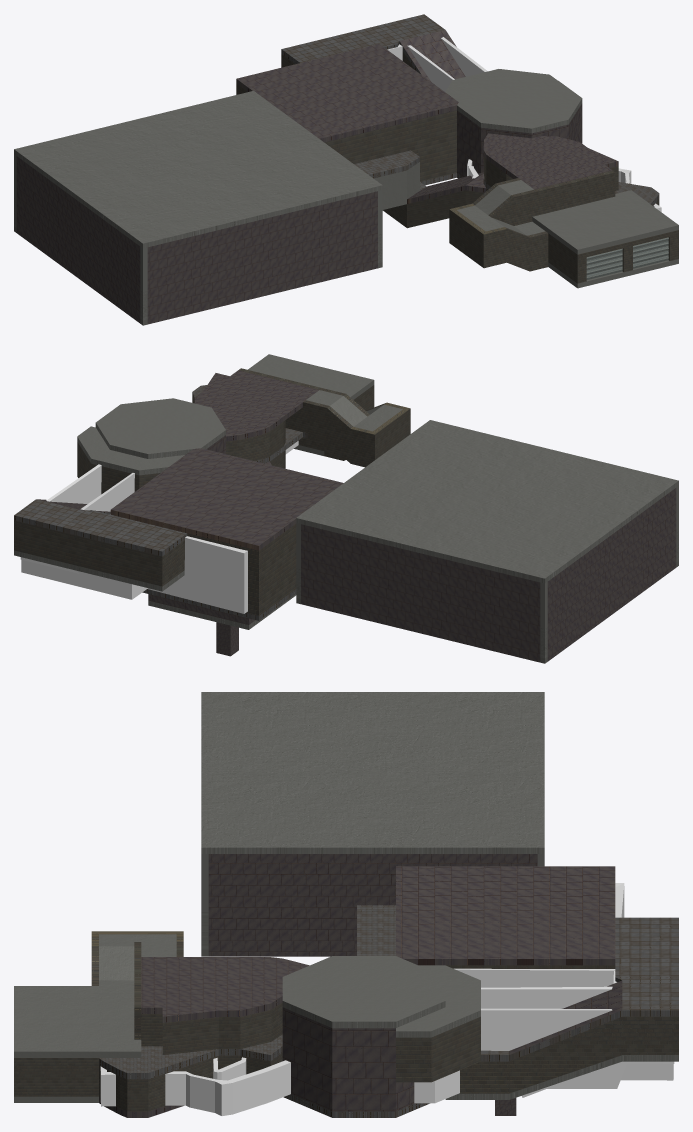
The model's file is map.glb.
3 renders of one model, top to bottom at view 1: azimuth 30°, elevation 25°; view 2: azimuth 150°, elevation 25°; view 3: azimuth 270°, elevation 25°, orthographic. The views are drawn at different scales.
Visible parts, largest first — view 1: _ Exit Celing, Exit Walls, _Square Celing, Stairs Walls, _Hexagon Celing, _Garage Celing, _Connector Celing Upstairs, Square Walls, _Hallway Celing, Hexagon Walls, Garage Walls, Old Map (+10 smaller); view 2: _ Exit Celing, Exit Walls, _Square Celing, Old Map, _Hexagon Celing, Hallway Walls, _Connector Celing Upstairs, Stairs Walls, _Hallway Celing, Square Walls, _Garage Celing, _Balcony Celing (+10 smaller); view 3: _ Exit Celing, _Square Celing, Exit Walls, Old Map, _Hexagon Celing, Hexagon Walls, _Garage Celing, _Connector Celing Upstairs, _Hallway Celing, Hallway Walls, Connector Walls Upstairs, Balcony Walls (+10 smaller).
Boxes of the visible parts, x1,y1,x2,y2 form: _ Exit Celing: (14, 91, 382, 248); Exit Walls: (14, 154, 419, 325); _Square Celing: (236, 44, 458, 142); Stairs Walls: (449, 170, 615, 271); _Hexagon Celing: (457, 75, 582, 133); _Garage Celing: (532, 190, 678, 254); _Connector Celing Upstairs: (483, 133, 618, 189); Square Walls: (236, 84, 456, 181); _Hallway Celing: (281, 14, 465, 81); Hexagon Walls: (457, 103, 582, 177); Garage Walls: (548, 230, 678, 283); Old Map: (387, 37, 661, 211); _ Exit Celing: (296, 420, 678, 583); Exit Walls: (296, 486, 678, 663); _Square Celing: (110, 448, 343, 550); Old Map: (20, 441, 298, 613); _Hexagon Celing: (95, 398, 225, 458); Hallway Walls: (14, 520, 184, 586); _Connector Celing Upstairs: (194, 370, 319, 441); Stairs Walls: (238, 368, 410, 467); _Hallway Celing: (14, 499, 187, 556); Square Walls: (187, 524, 296, 615); _Garage Celing: (248, 354, 374, 399); _Balcony Celing: (77, 426, 184, 475); _ Exit Celing: (201, 692, 544, 853); _Square Celing: (396, 866, 615, 965); Exit Walls: (201, 854, 544, 956); Old Map: (100, 883, 674, 1115); _Hexagon Celing: (282, 956, 445, 1028); Hexagon Walls: (282, 1007, 414, 1111); _Garage Celing: (14, 986, 141, 1057); _Connector Celing Upstairs: (141, 957, 309, 1022); _Hallway Celing: (481, 917, 678, 1061); Hallway Walls: (459, 1016, 678, 1093); Connector Walls Upstairs: (162, 1002, 282, 1054); Balcony Walls: (396, 1017, 480, 1082).
Size of the model in its own units: 108 by 33 by 94.
7 materials, 7 textured.
